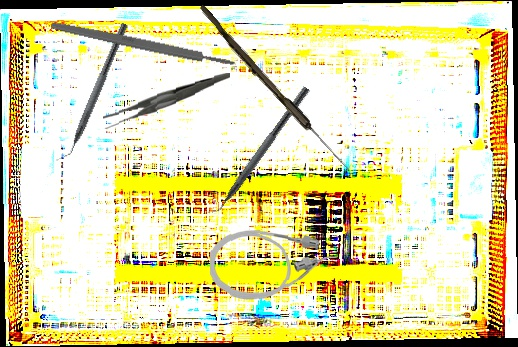Cannula: (208, 227, 339, 304)
Chopper: (201, 79, 311, 224), (54, 18, 129, 168)
Dressing Forceps: (100, 72, 233, 130)
Scalpel Handle: (48, 19, 238, 70)
Surgical Spoon: (194, 4, 354, 173)
